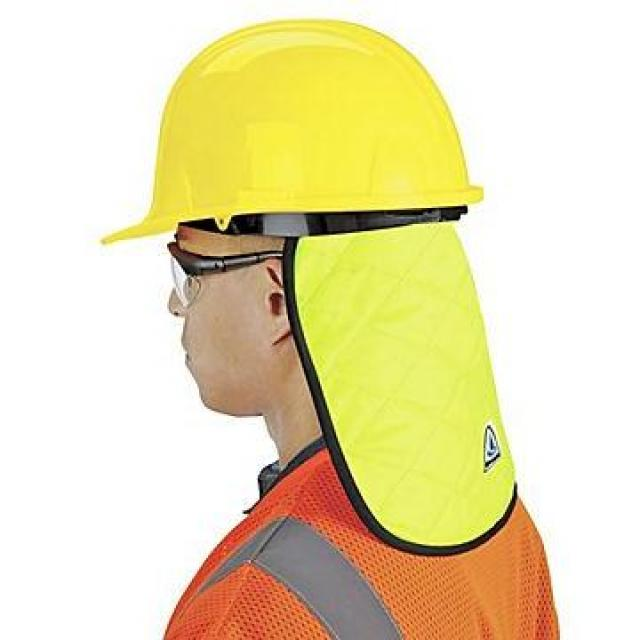Reflective-Jacket: (135, 420, 596, 638)
Safety-Helmet: (105, 12, 492, 242)
